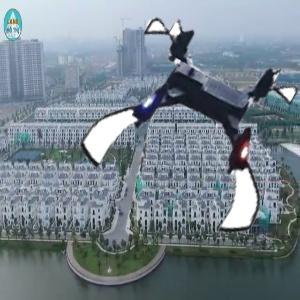drone: (101, 31, 297, 227)
